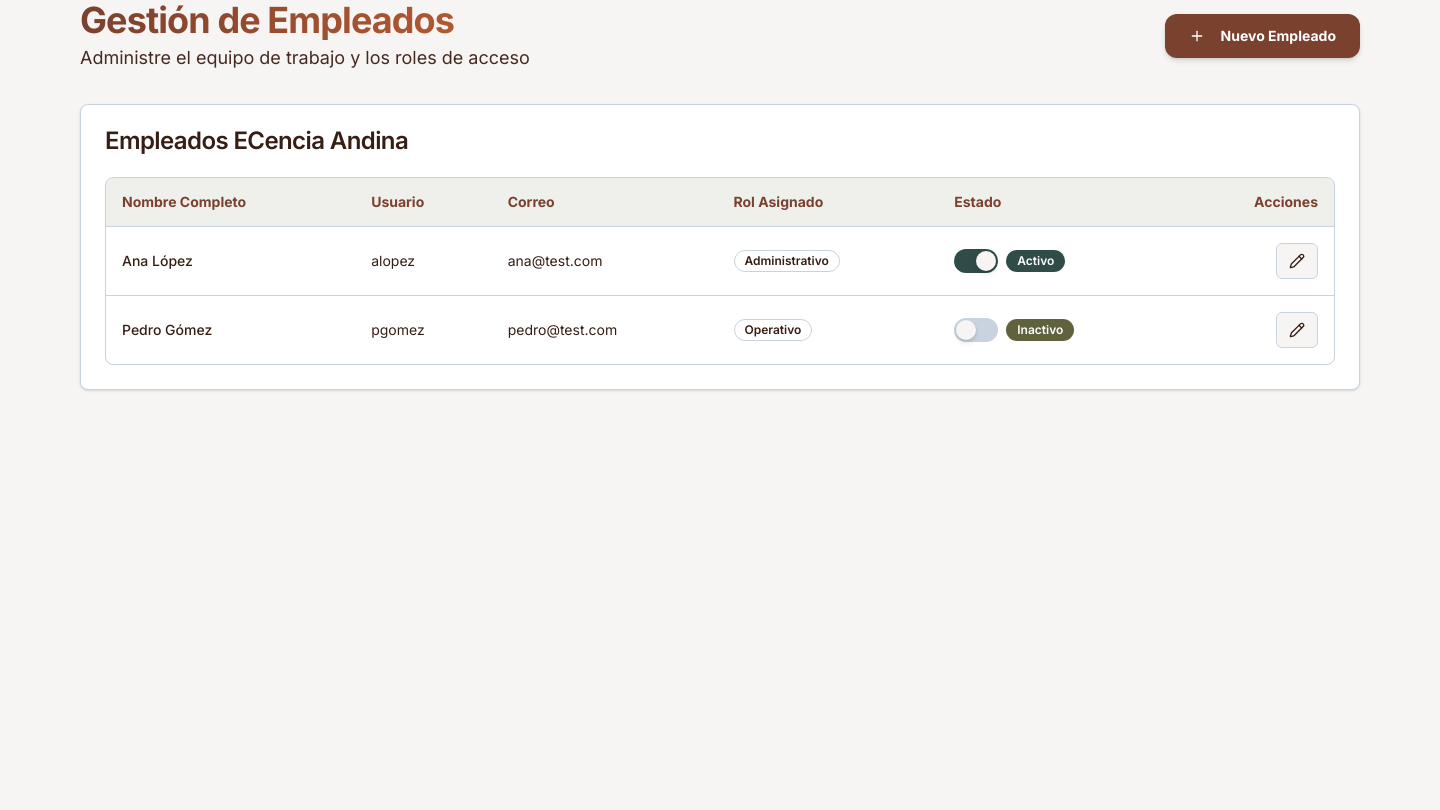
Test: Usuarios › permite crear un nuevo empleado
Click the button "Nuevo Empleado". click: [1262, 36]
box: [1165,14,1360,58]
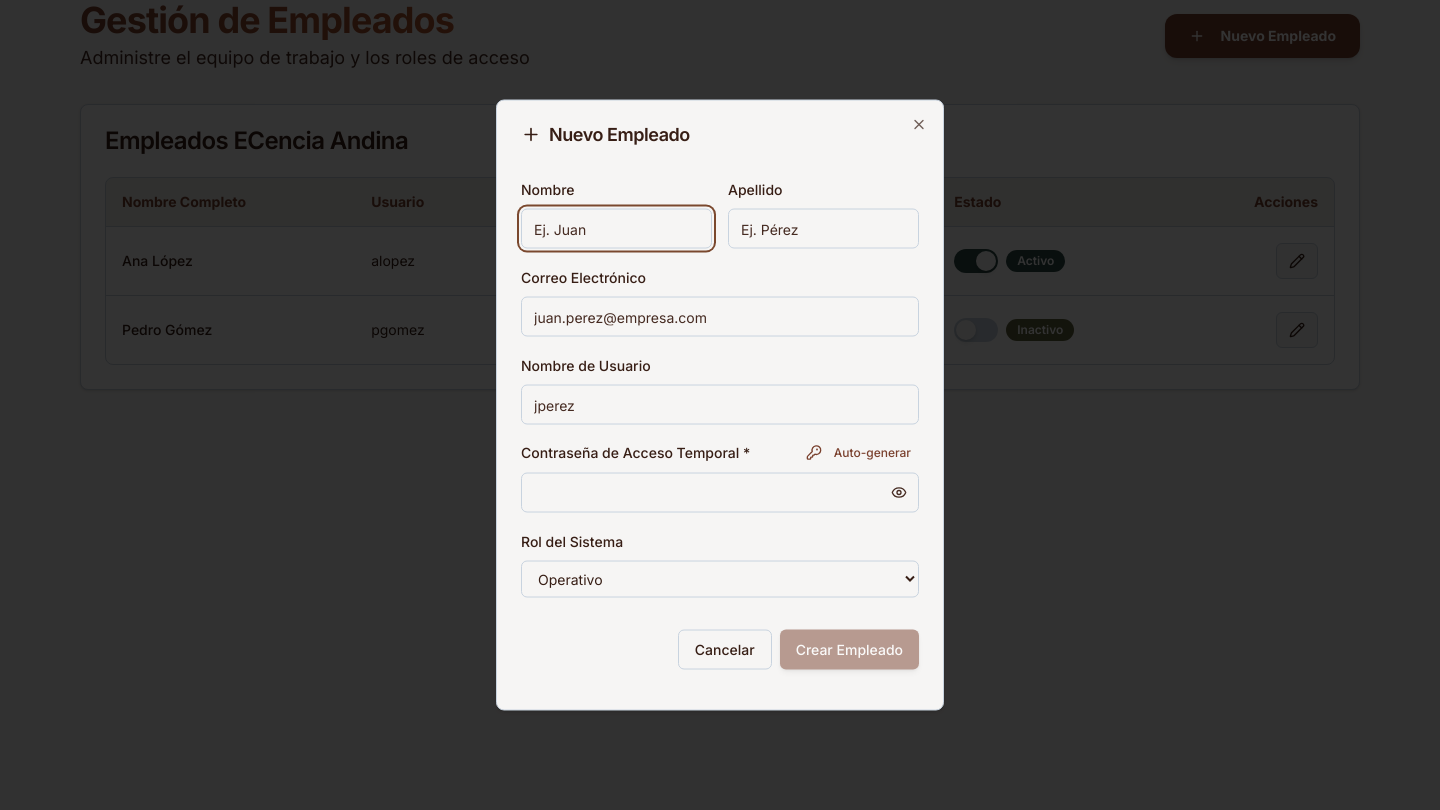
Expected: the dialog is shown, [496,100,944,710]
Type "Carlos" into the field labelled "Nombre". click: [616, 228]
box: [521,208,712,248]
Type "Perez" into the field labelled "Apellido". click: [824, 228]
box: [728,208,919,248]
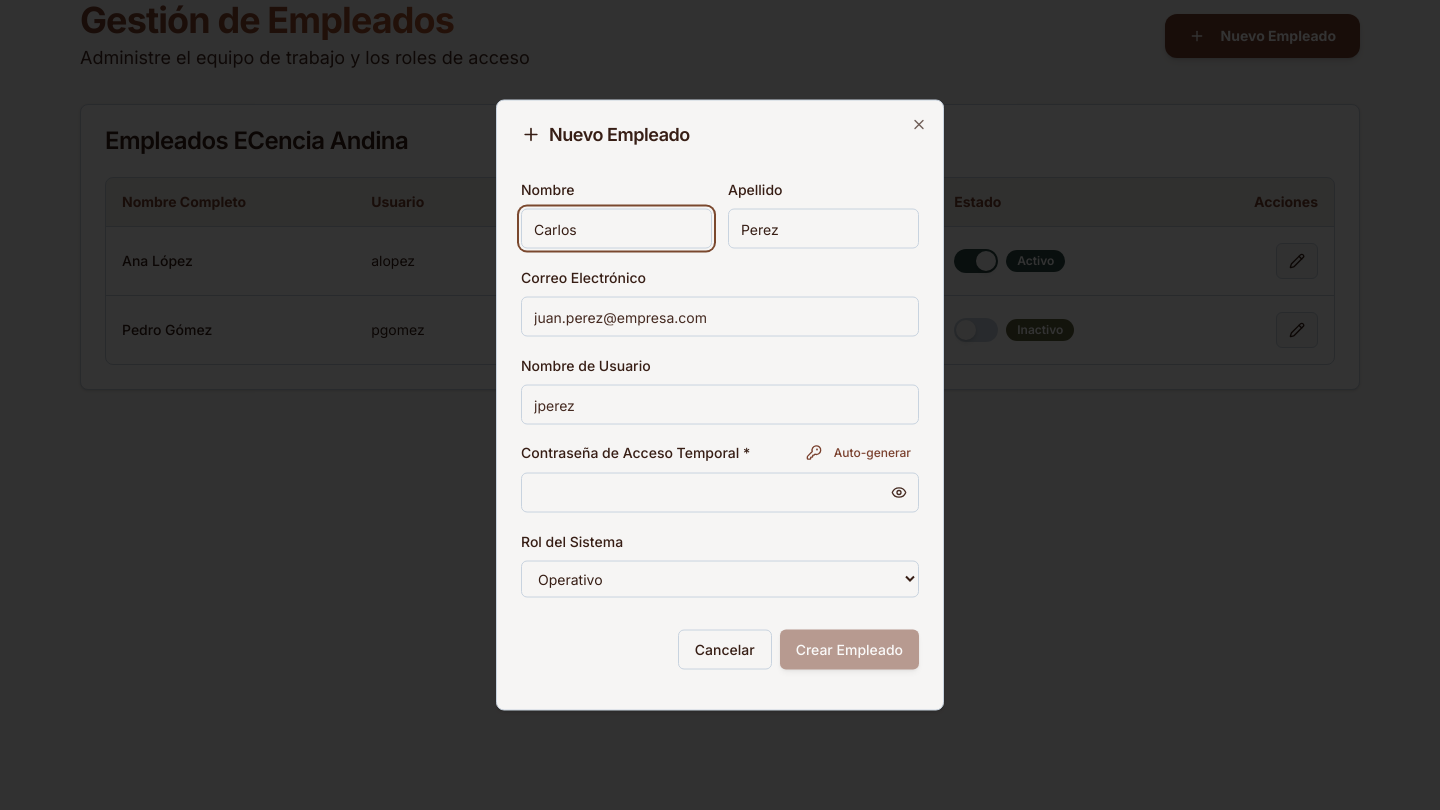
Type "carlos@test.com" into the field labelled "Correo Electrónico". click: [720, 316]
box: [521,296,919,336]
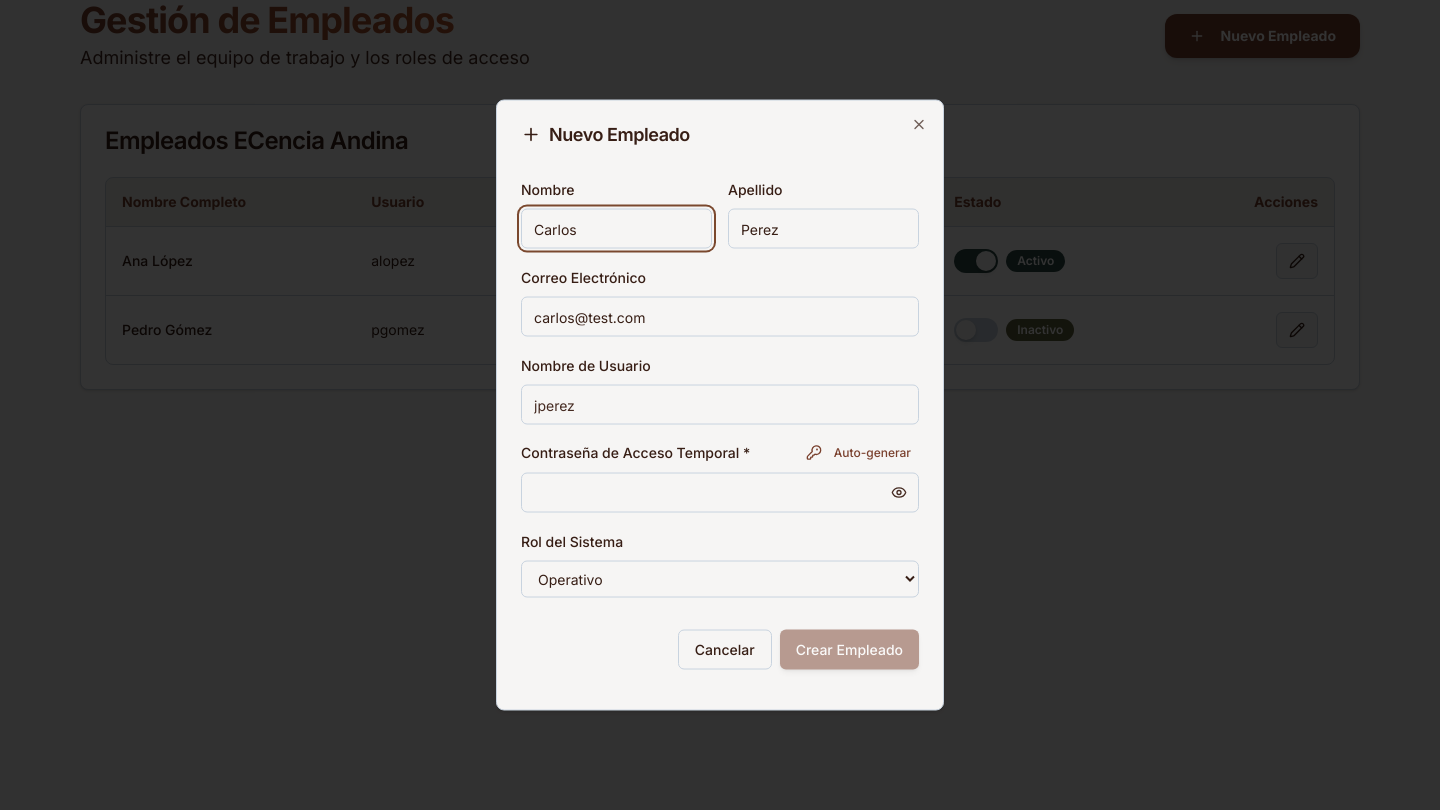
Type "cperez" into the field labelled "Nombre de Usuario". click: [720, 404]
box: [521,384,919,424]
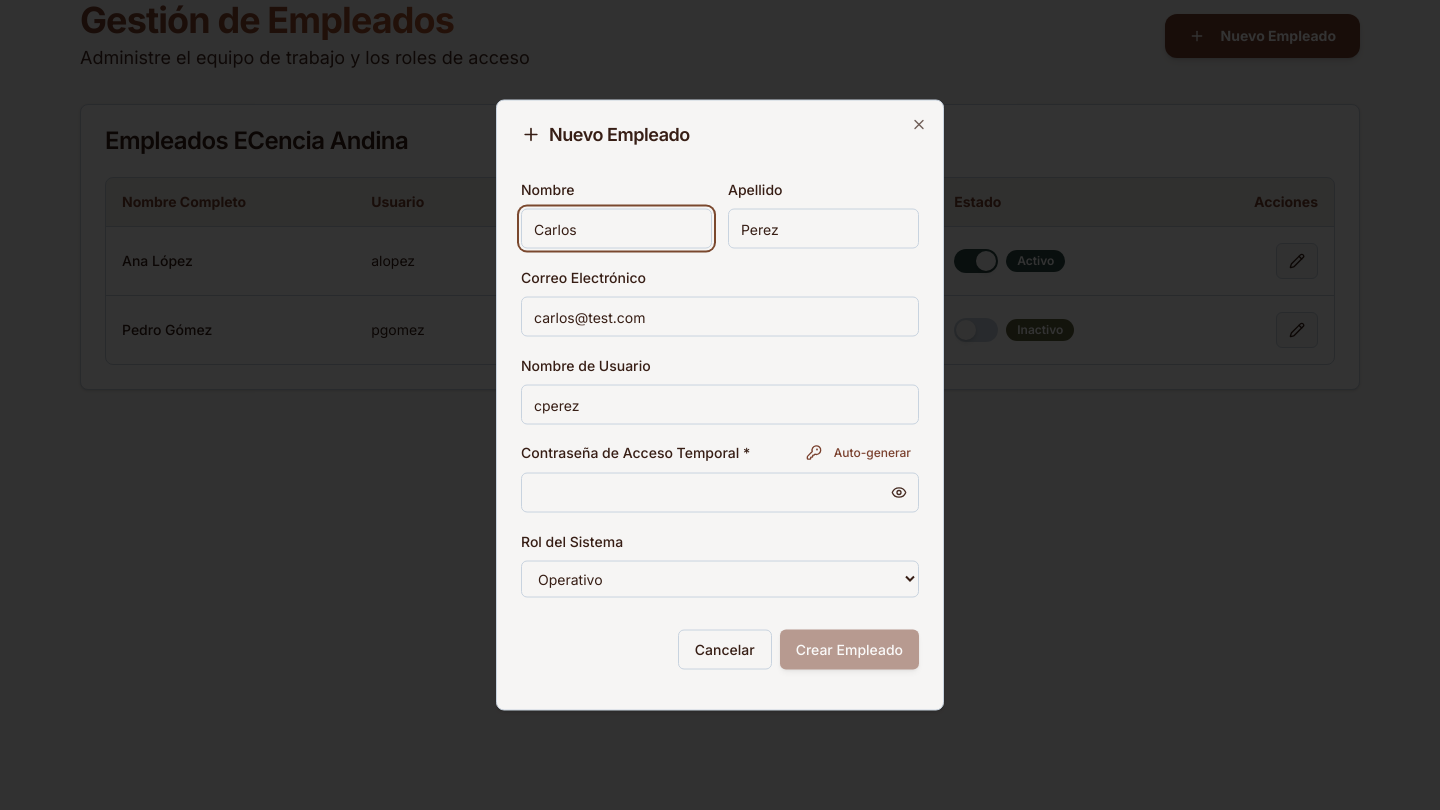
// Autogenerar contraseña
Click the button "Auto-generar". click: [858, 452]
box: [798,440,919,464]
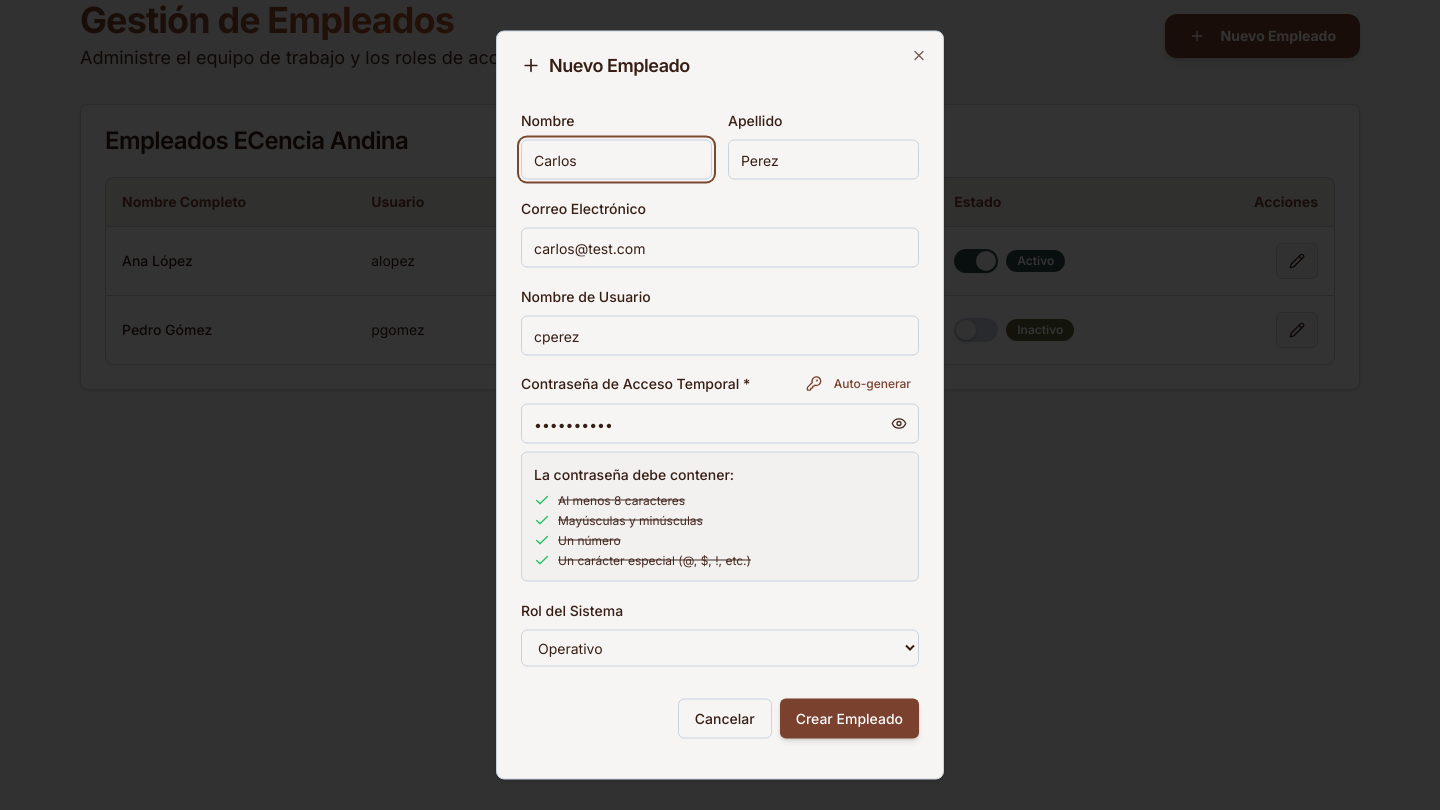
Click the button "Crear Empleado". click: [849, 718]
box: [780,698,919,738]
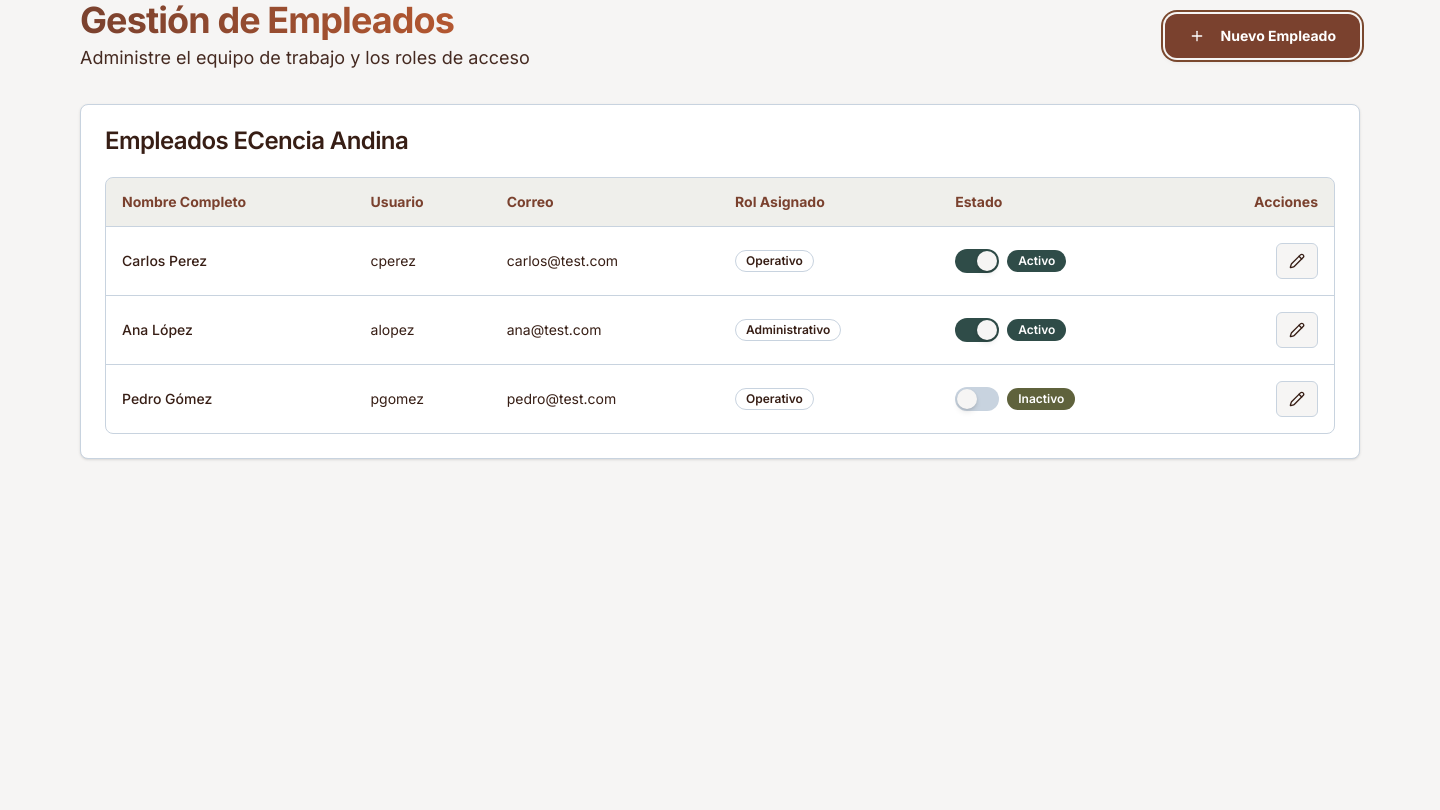
Expected: the text "Carlos Perez" is shown, [106,226,354,295]
